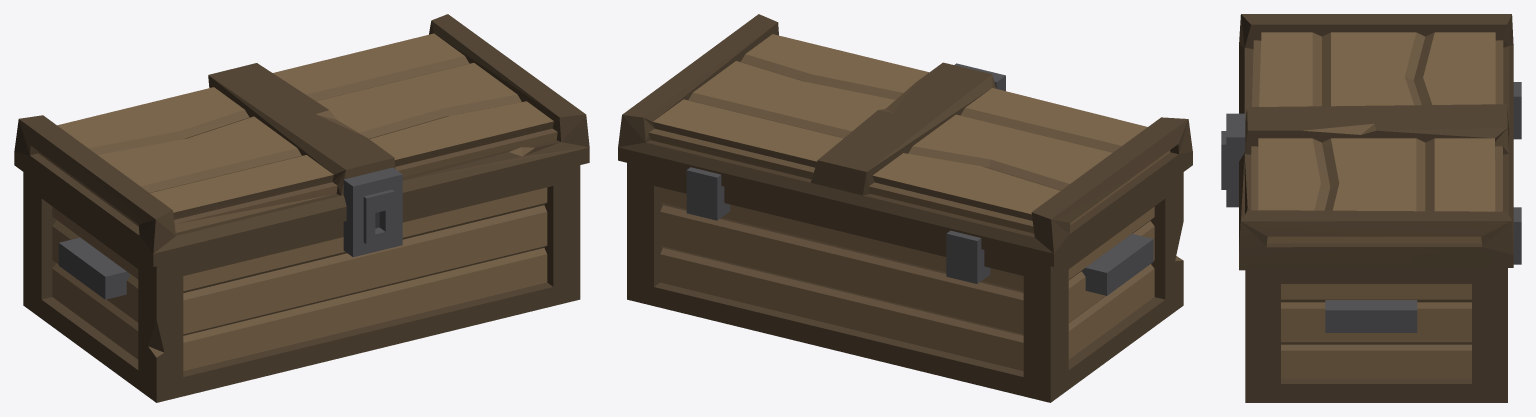
File: Caja_01.glb
3 views of the same model, side by side, from view 1: azimuth 30°, elevation 25°; view 2: azimuth 150°, elevation 25°; view 3: azimuth 270°, elevation 25° (orthographic).
Visible parts, largest first — view 1: SM_Prop_Chest_Lid_01; view 2: SM_Prop_Chest_Lid_01; view 3: SM_Prop_Chest_Lid_01.
Boxes of the visible parts, <box> form: SM_Prop_Chest_Lid_01: <box>14,14,589,402</box>; SM_Prop_Chest_Lid_01: <box>618,14,1192,402</box>; SM_Prop_Chest_Lid_01: <box>1221,14,1521,402</box>.
Size of the model in its own units: 1.23 by 0.4926 by 0.7314.
Materials: 1 (1 with a texture image).
